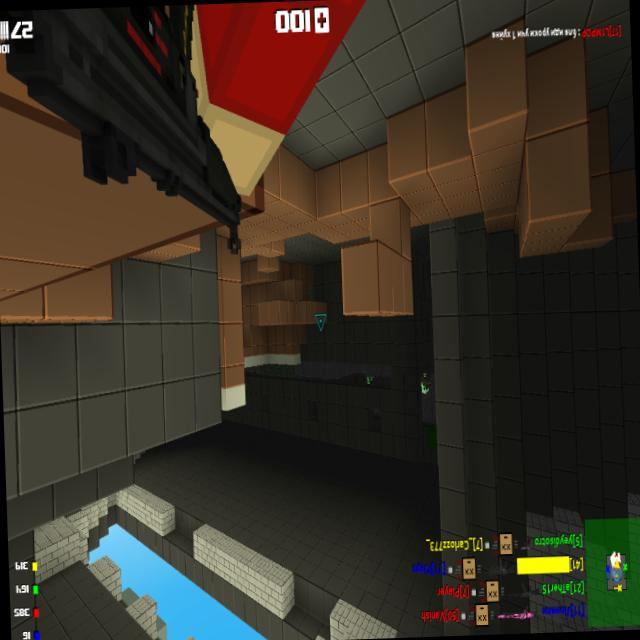enemy: (420, 371, 433, 396), (366, 376, 374, 386)
